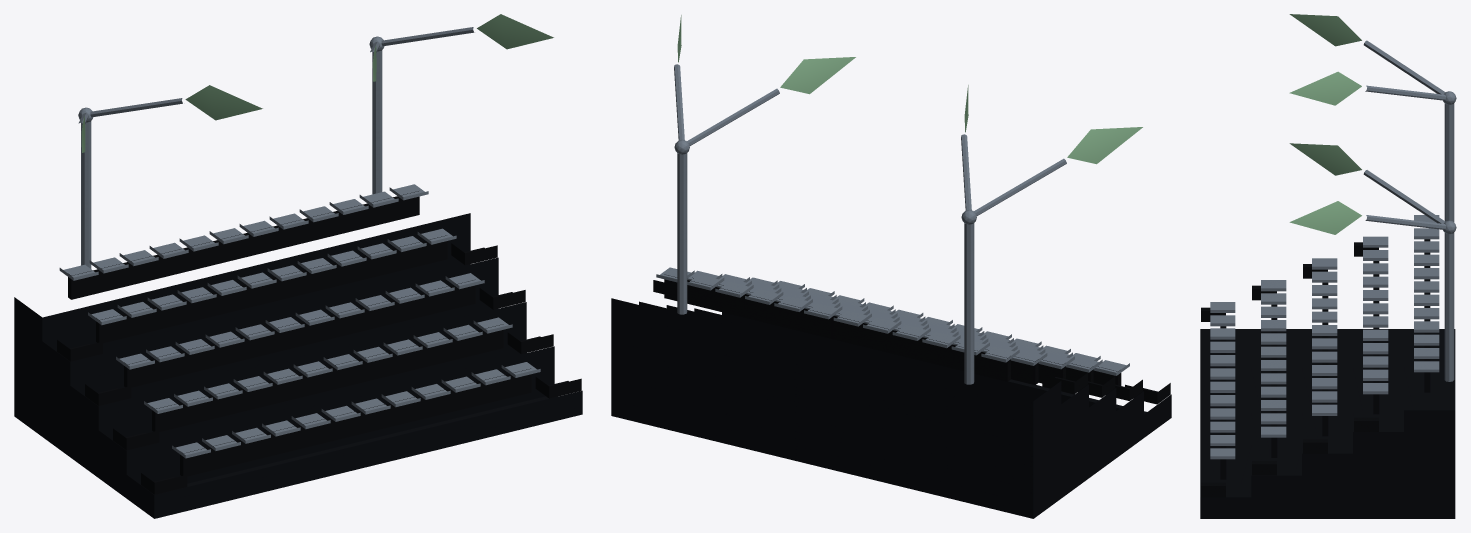
3 views of the same model, side by side, from view 1: azimuth 30°, elevation 25°; view 2: azimuth 150°, elevation 25°; view 3: azimuth 270°, elevation 25° (orthographic). The views are drawn at different scales.
Visible parts, largest first — view 1: Tier_Concrete, Seat_Beams, Seat_Pans, Aisle_Steps, Canopy_Steel, Canopy_Leaves; view 2: Tier_Concrete, Seat_Pans, Seat_Beams, Canopy_Steel, Canopy_Leaves, Aisle_Steps; view 3: Tier_Concrete, Seat_Pans, Canopy_Steel, Canopy_Leaves, Aisle_Steps, Seat_Beams.
Part boxes in pixels (<box>): Tier_Concrete: <box>14,213,582,518</box>; Seat_Beams: <box>68,191,531,476</box>; Seat_Pans: <box>59,184,540,458</box>; Aisle_Steps: <box>57,243,581,494</box>; Canopy_Steel: <box>78,27,474,268</box>; Canopy_Leaves: <box>81,14,553,152</box>; Tier_Concrete: <box>611,298,1171,518</box>; Seat_Pans: <box>656,267,1129,375</box>; Seat_Beams: <box>664,274,1121,385</box>; Canopy_Steel: <box>674,64,1066,384</box>; Canopy_Leaves: <box>677,15,1142,164</box>; Aisle_Steps: <box>653,280,1170,404</box>; Tier_Concrete: <box>1200,329,1455,518</box>; Seat_Pans: <box>1210,215,1439,459</box>; Canopy_Steel: <box>1363,40,1456,381</box>; Canopy_Leaves: <box>1289,14,1361,234</box>; Aisle_Steps: <box>1201,242,1378,497</box>; Seat_Beams: <box>1220,239,1430,479</box>.
Bounding box in the file's own units: 8.22 × 5.8 × 4.27.
4 materials, 3 textured.
